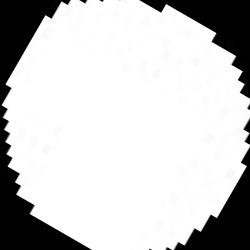spot: (3, 2, 249, 247)
